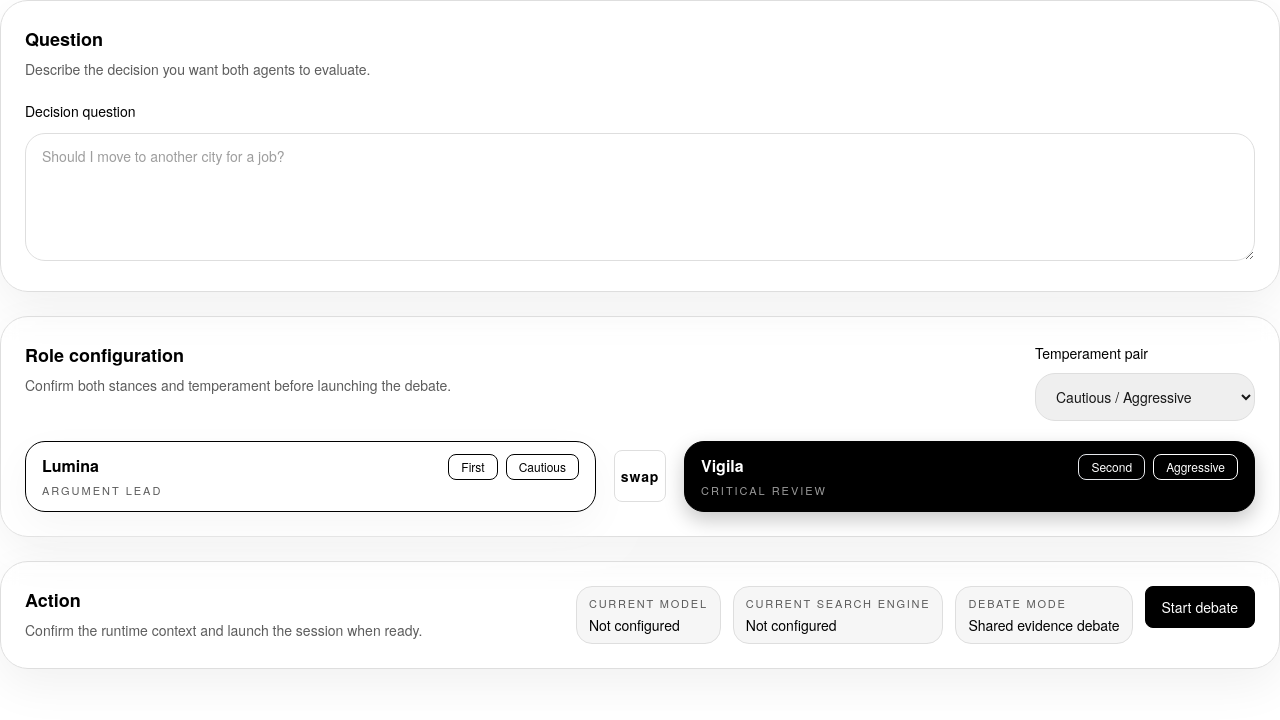
Test: SessionShell › submits the expected payload and advances to the summary workspace
Type "Should I move to another city?" into the text box labelled "Decision question".
click(640, 197); type("Should I move to another city?")  # box 25,133 -> 1255,261
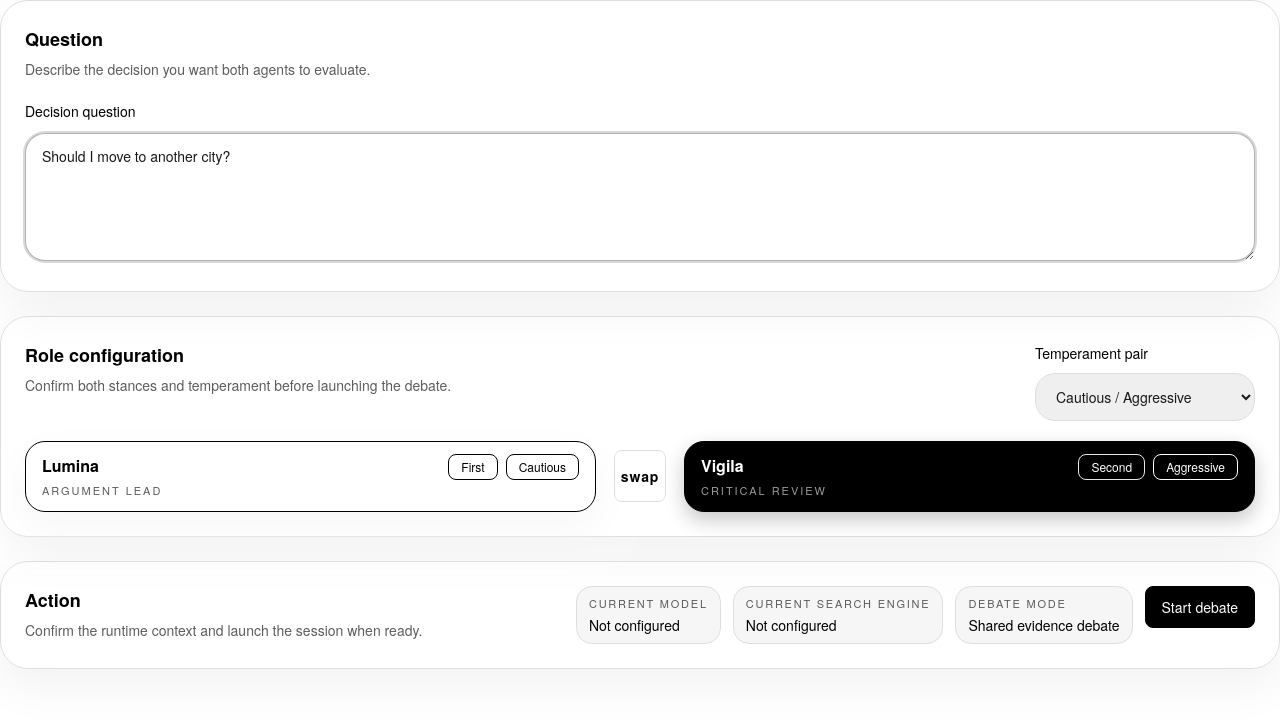
Click the button "Start debate".
click(1200, 606)  # box 1145,586 -> 1255,628
(page scrolled)
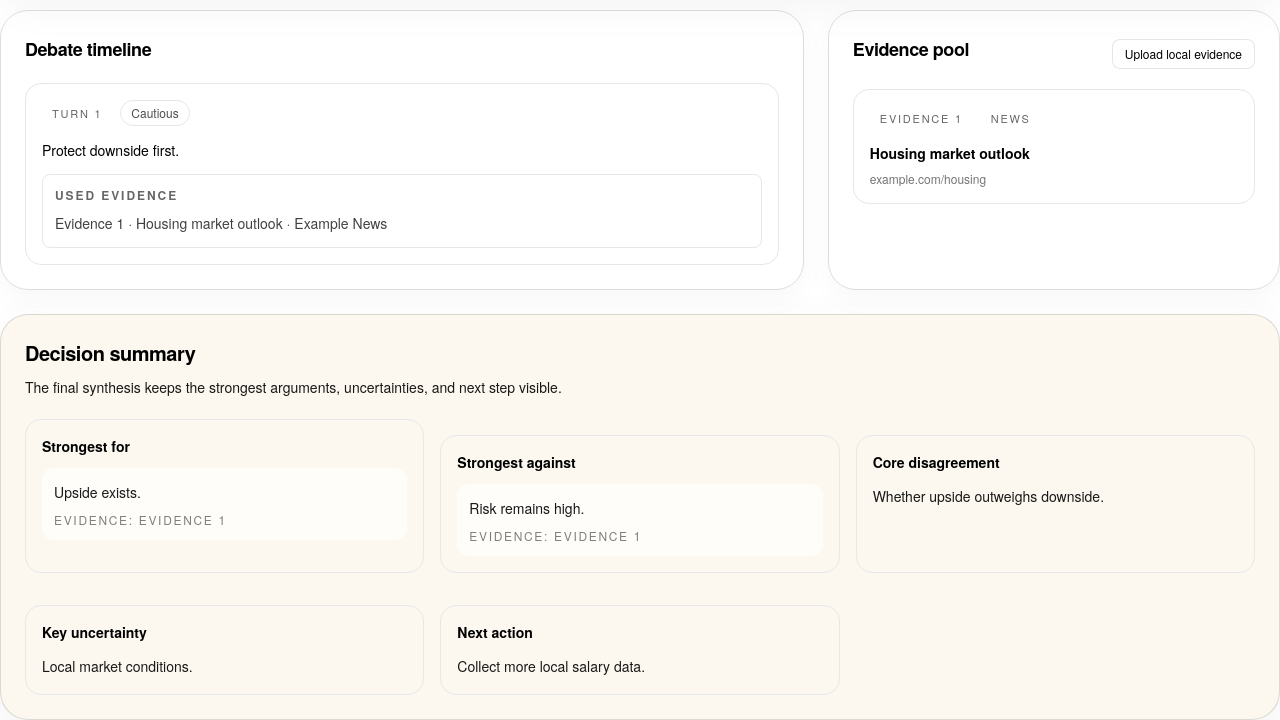
Result: the heading "Decision summary" is shown at 25,338 -> 195,367
Result: the text "Collect more local salary data." is shown at 457,656 -> 645,676
